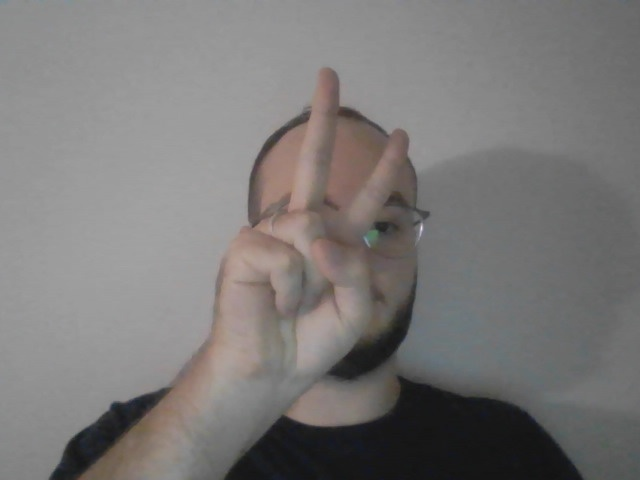Two: (211, 66, 409, 391)
